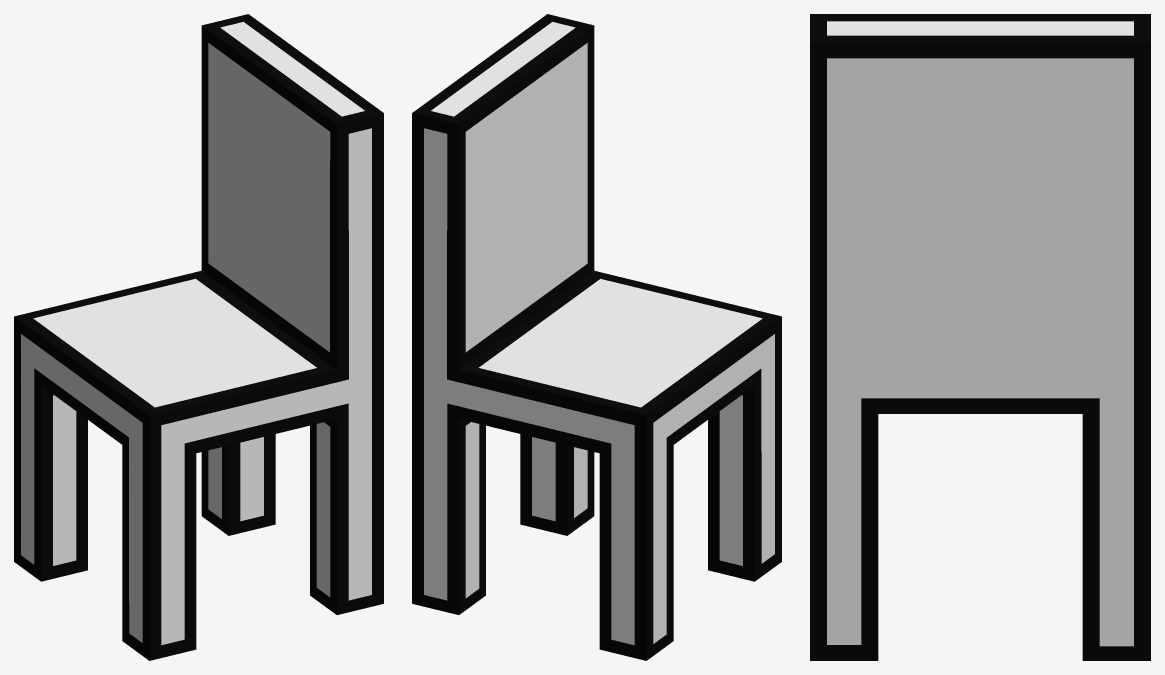
Rendered from chair.fbx.
3 renders of one model, left to right at view 1: azimuth 30°, elevation 25°; view 2: azimuth 150°, elevation 25°; view 3: azimuth 270°, elevation 25°, orthographic. The views are drawn at different scales.
Parts seen in each view (by area): view 1: Chair; view 2: Chair; view 3: Chair.
Boxes of the visible parts, <box> form: Chair: <box>14,14,383,660</box>; Chair: <box>412,14,781,660</box>; Chair: <box>810,14,1150,660</box>.
Bounding box in the file's own units: 100 × 200 × 100.
